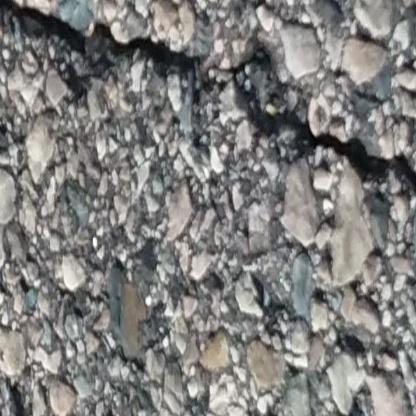Cracks: (0, 0, 416, 227)
